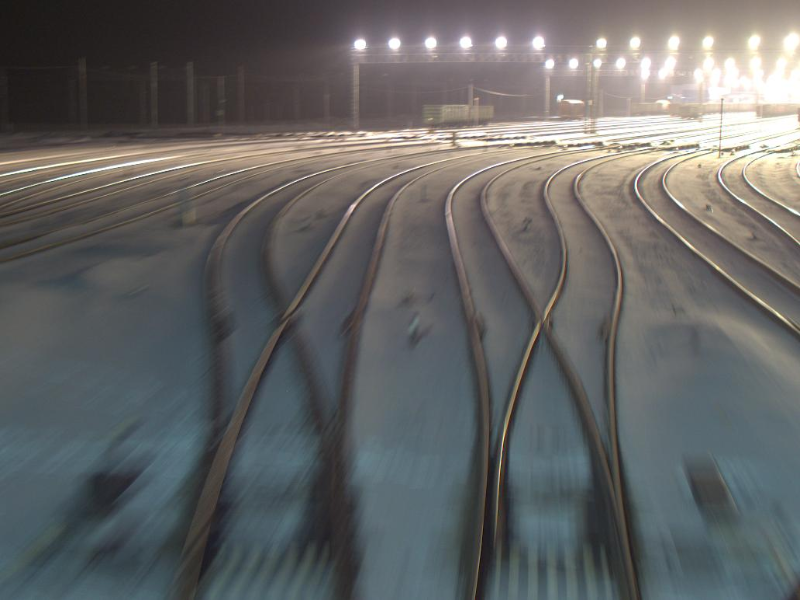railway_arrows: (477, 314, 626, 597), (212, 316, 364, 580)
